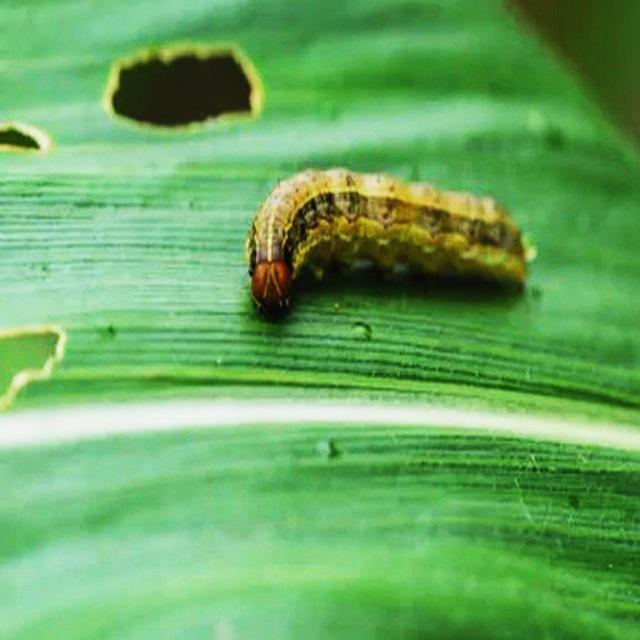gusano_cogollero: (246, 167, 538, 318)
